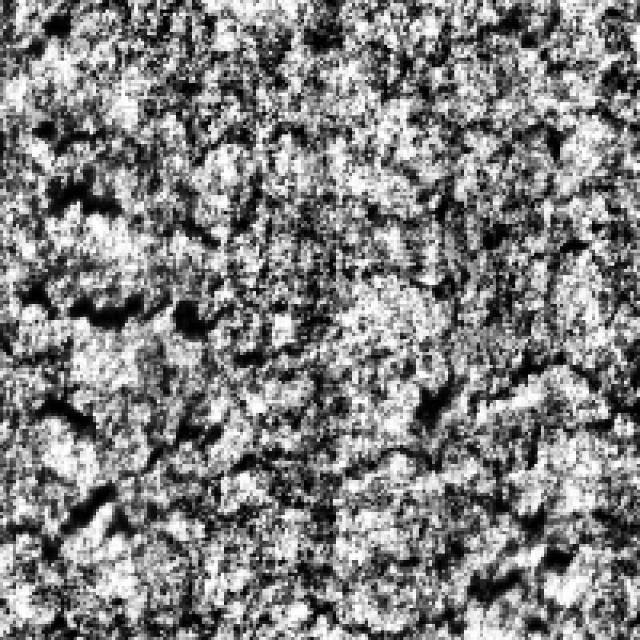Pitted_Surface: (26, 346, 608, 628), (22, 118, 573, 333)
